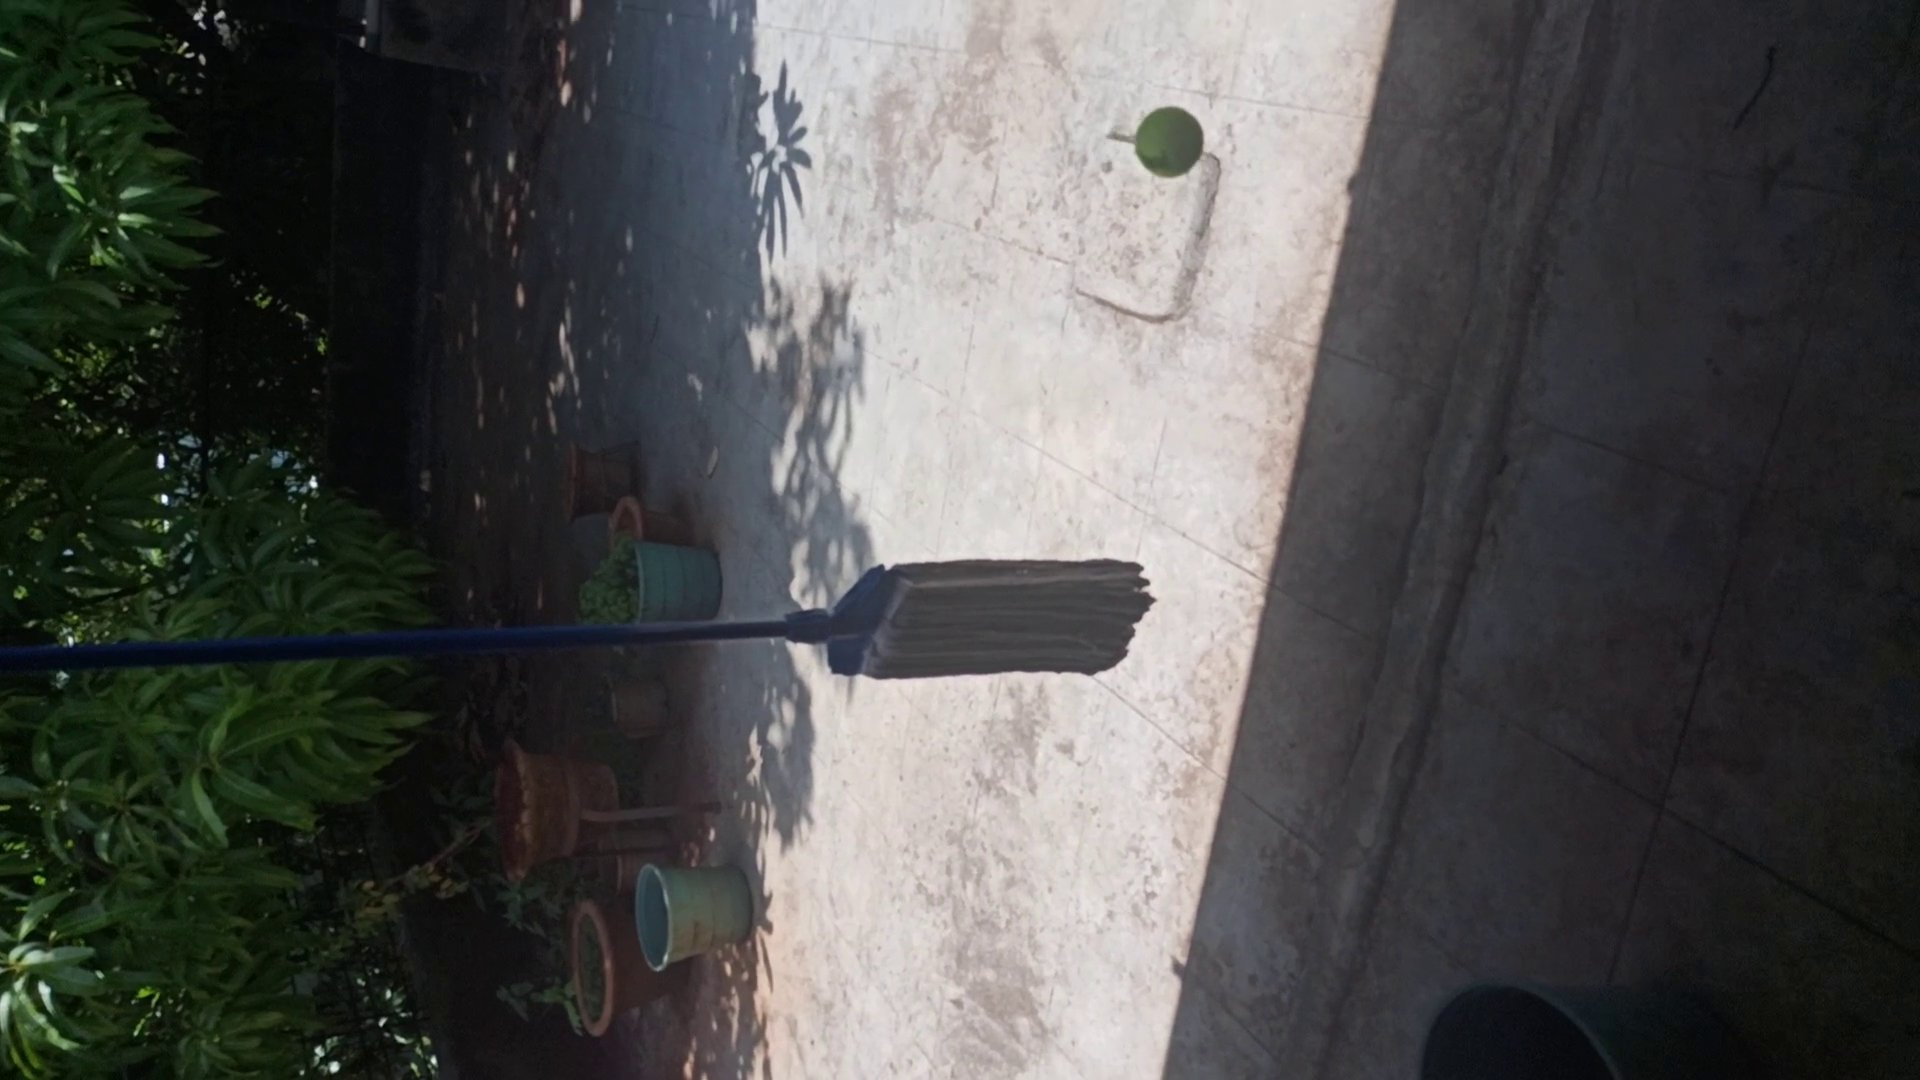Tennis-Ball: (1135, 107, 1203, 177)
